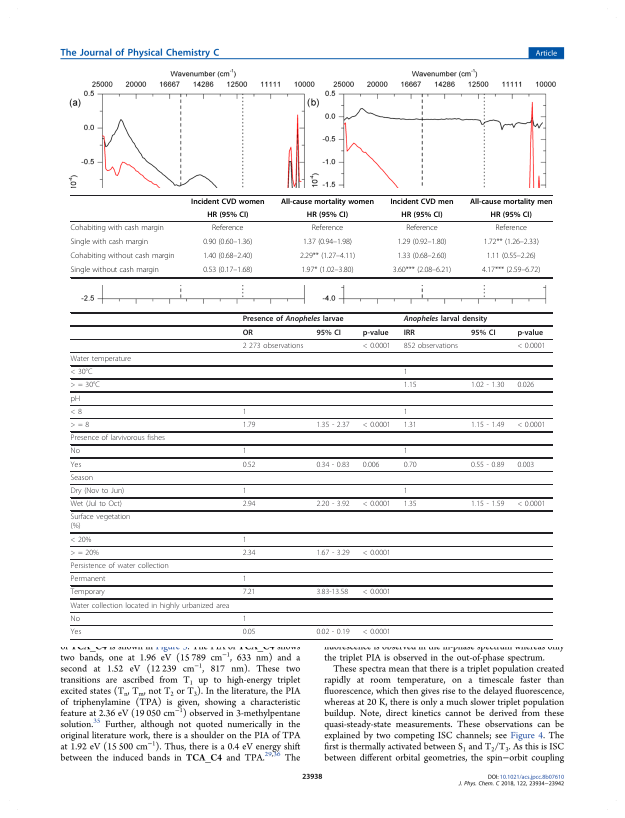borderless: (69, 311, 553, 639), (69, 193, 552, 277)
cell: (70, 601, 230, 611), (70, 513, 131, 531), (69, 251, 175, 261), (69, 223, 165, 233), (242, 315, 344, 324), (70, 265, 160, 275), (70, 562, 170, 571), (70, 434, 166, 443), (280, 197, 375, 206), (69, 237, 149, 247), (403, 315, 488, 324), (469, 197, 553, 206), (190, 197, 265, 206), (242, 341, 304, 351), (392, 265, 452, 275), (481, 265, 541, 275), (389, 197, 454, 206), (483, 237, 540, 247), (299, 251, 356, 261), (403, 341, 459, 351), (70, 355, 132, 364), (300, 265, 354, 275), (202, 237, 253, 247), (302, 237, 353, 247), (396, 237, 447, 247), (202, 251, 253, 261), (396, 251, 447, 261), (486, 251, 537, 261), (202, 265, 253, 275), (70, 487, 125, 496), (70, 500, 123, 509), (206, 210, 249, 220), (306, 210, 349, 220), (400, 210, 443, 220), (490, 210, 533, 220), (315, 460, 351, 470), (315, 548, 351, 558), (315, 627, 351, 637), (470, 460, 505, 470), (405, 223, 439, 233), (494, 223, 528, 233), (211, 223, 244, 233), (311, 223, 344, 233), (315, 421, 351, 430), (315, 500, 351, 509), (70, 575, 106, 584), (70, 588, 106, 597), (470, 381, 505, 390), (470, 421, 505, 430), (470, 500, 505, 509), (315, 588, 349, 597), (362, 341, 392, 351), (516, 341, 546, 351), (70, 548, 100, 558), (362, 548, 392, 558), (362, 627, 392, 637), (516, 328, 544, 338), (70, 381, 101, 390), (315, 328, 342, 338), (362, 328, 389, 338), (362, 421, 392, 430), (516, 421, 546, 430), (362, 500, 392, 509), (516, 500, 546, 509), (362, 588, 392, 597), (470, 328, 496, 338), (70, 473, 94, 483), (70, 535, 92, 545), (70, 368, 93, 377), (516, 460, 535, 470), (70, 421, 90, 430), (362, 460, 380, 470), (516, 381, 535, 390), (242, 460, 256, 470), (403, 460, 417, 470), (242, 548, 256, 558), (242, 627, 256, 637), (403, 328, 416, 338), (70, 407, 83, 417), (403, 381, 417, 390), (242, 421, 256, 430), (403, 421, 417, 430), (242, 500, 256, 509), (403, 500, 417, 509), (242, 588, 256, 597), (242, 328, 254, 338), (70, 460, 82, 470), (70, 627, 82, 637), (70, 394, 81, 404), (70, 614, 81, 624), (70, 447, 81, 456), (403, 407, 409, 417), (403, 368, 409, 377), (403, 447, 409, 456), (403, 487, 409, 496), (242, 407, 247, 417), (242, 535, 247, 545), (242, 614, 247, 624), (242, 447, 247, 456), (242, 487, 247, 496), (242, 575, 247, 584)
